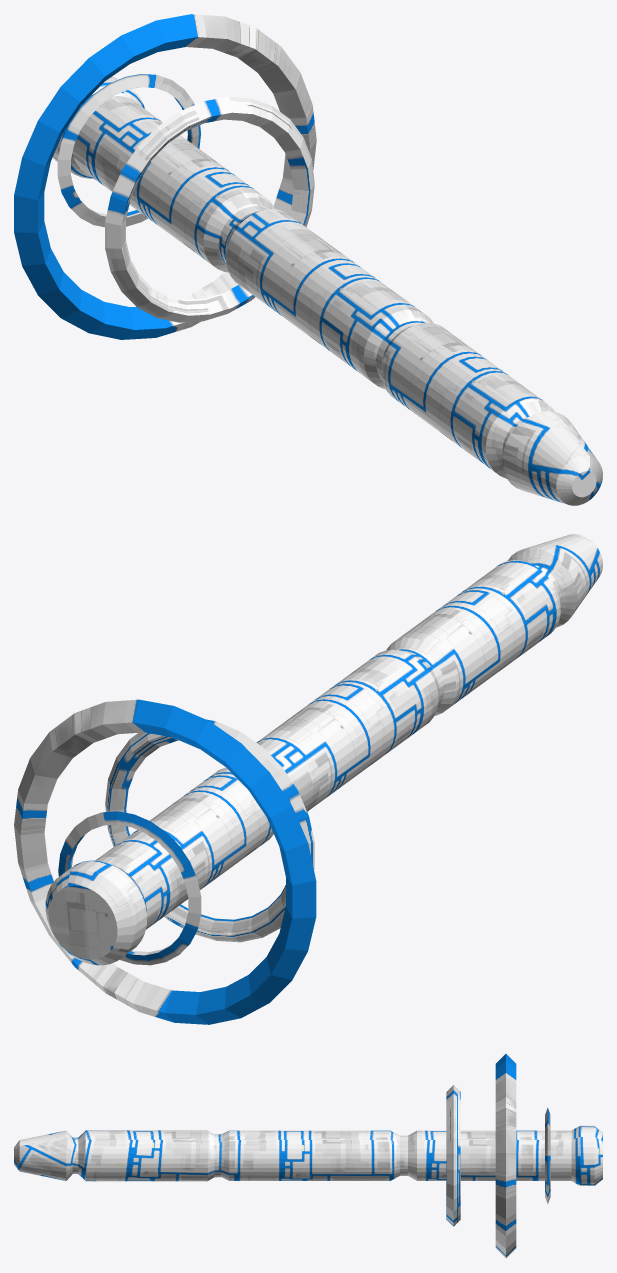
The model's file is spaceStation.glb.
The picture shows the model from 3 angles, top to bottom: view 1: azimuth 30°, elevation 25°; view 2: azimuth 150°, elevation 25°; view 3: azimuth 270°, elevation 25°; orthographic projection. The views are drawn at different scales.
Parts seen in each view (by area): view 1: Cylinder, Cylinder.002, Cylinder.001, Cylinder.003; view 2: Cylinder, Cylinder.002, Cylinder.001, Cylinder.003; view 3: Cylinder, Cylinder.002, Cylinder.001, Cylinder.003.
Boxes of the visible parts, <box> form: Cylinder: <box>53,76,602,505</box>; Cylinder.002: <box>14,14,316,339</box>; Cylinder.001: <box>105,97,314,322</box>; Cylinder.003: <box>57,74,200,227</box>; Cylinder: <box>45,534,602,965</box>; Cylinder.002: <box>14,699,316,1024</box>; Cylinder.001: <box>105,719,314,942</box>; Cylinder.003: <box>58,811,201,965</box>; Cylinder: <box>14,1125,602,1185</box>; Cylinder.002: <box>495,1054,516,1257</box>; Cylinder.001: <box>446,1085,460,1226</box>; Cylinder.003: <box>545,1107,550,1203</box>.
Size of the model in its own units: 8.08 by 8.1 by 23.23.
Materials: 1 (1 with a texture image).
